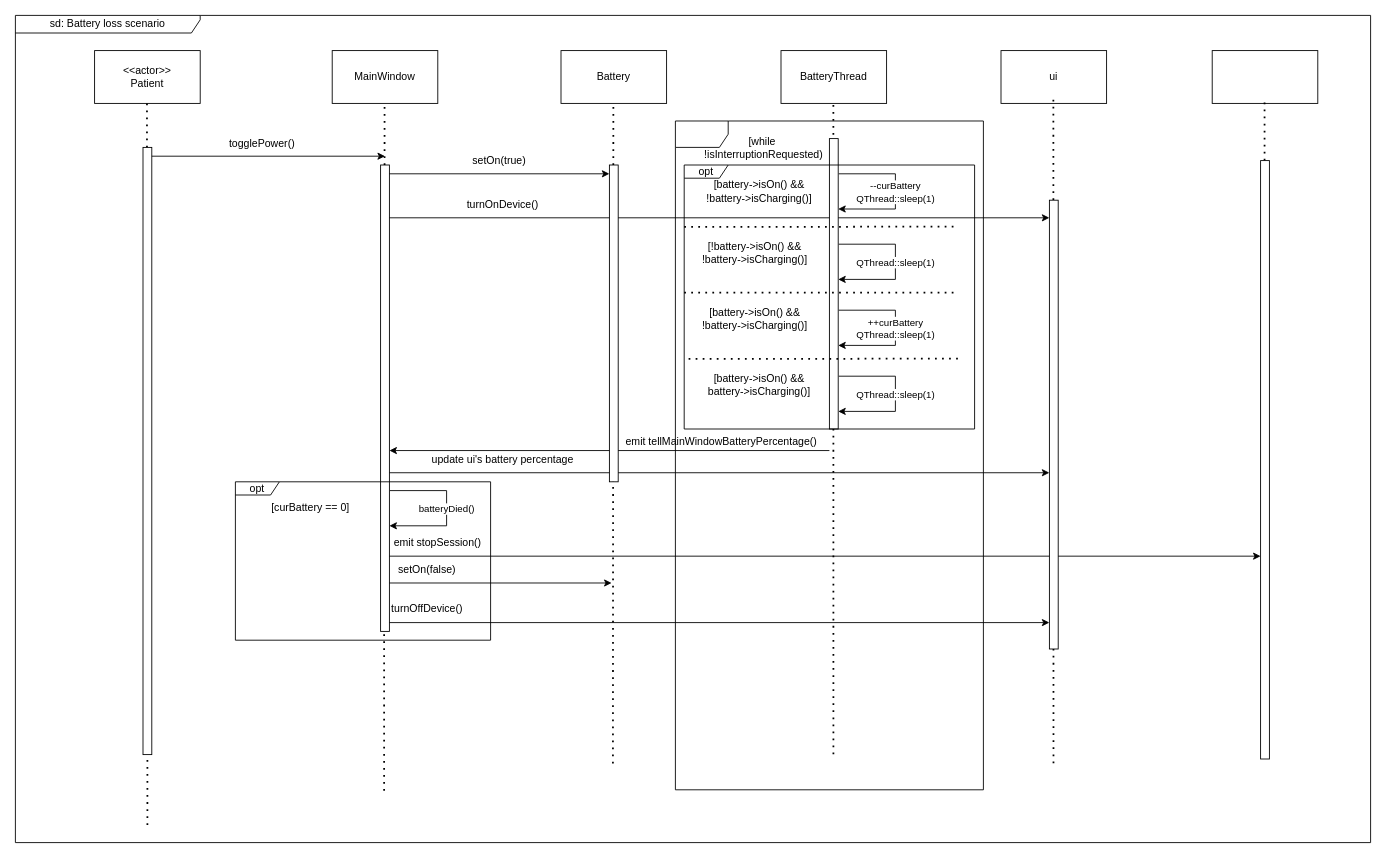
Some shapes in this 1386 by 858 pixel diagram are drawn without their labels. The shapes that lost their labels are listed below. From the top down, each one's box as (x1, y1, x2, y2) in pixels, then its label:
(1211, 50, 1318, 103): Controller
(675, 120, 983, 790): loop
